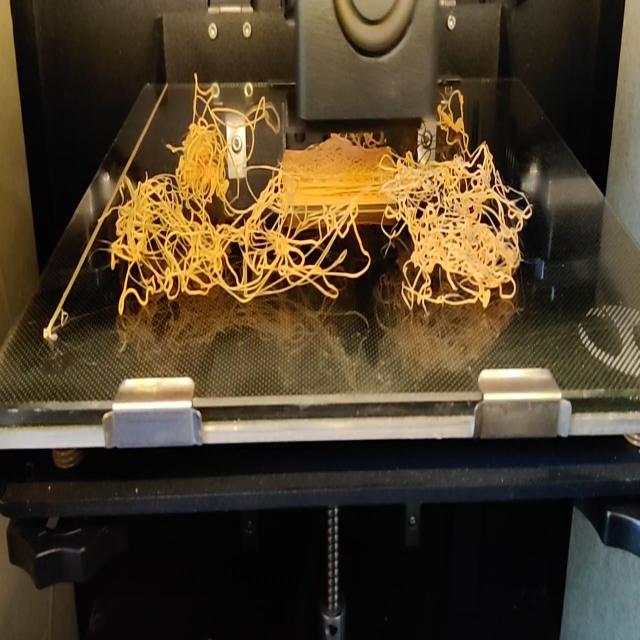spaghetti: (102, 121, 532, 316), (189, 71, 281, 131), (440, 87, 466, 122)
